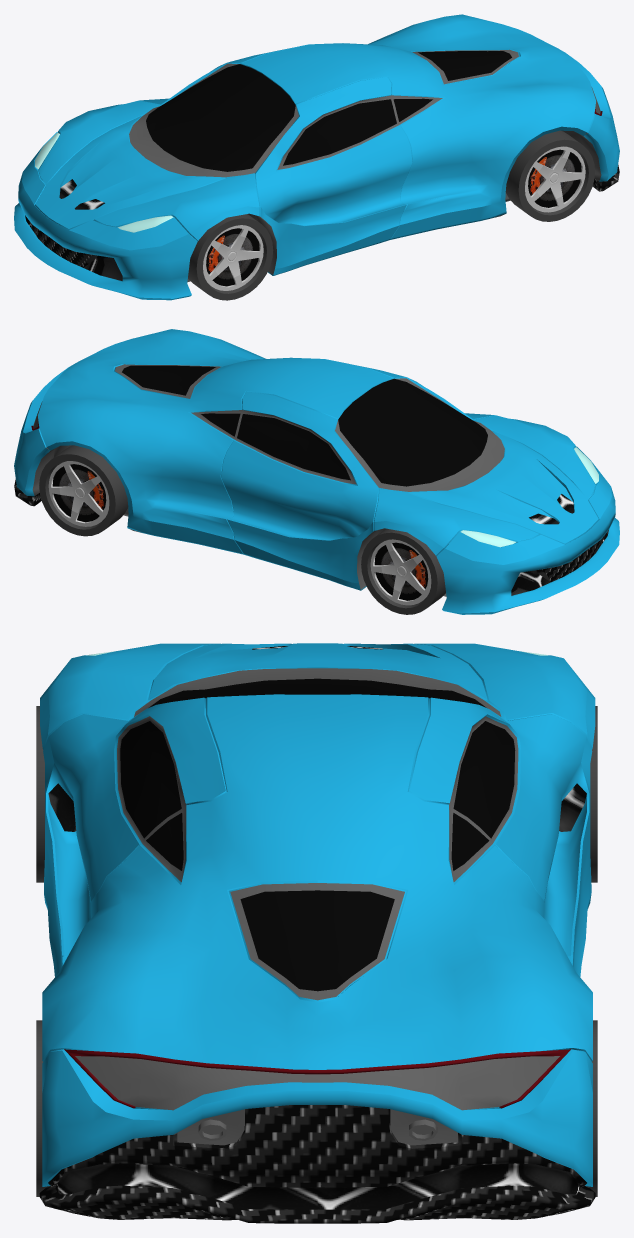
File: lorens.fbx
3 renders of one model, top to bottom at view 1: azimuth 30°, elevation 25°; view 2: azimuth 150°, elevation 25°; view 3: azimuth 270°, elevation 25°, orthographic. The views are drawn at different scales.
Visible parts, largest first — view 1: Chassi, wheel.003, wheel.001; view 2: Chassi, wheel.002, wheel; view 3: Chassi, wheel.001, wheel.003, wheel, wheel.002.
Part boxes in pixels (left/top/right/bottom): Chassi: left=14, top=14, right=619, bottom=300; wheel.003: left=505, top=130, right=594, bottom=221; wheel.001: left=188, top=214, right=273, bottom=300; Chassi: left=14, top=329, right=619, bottom=614; wheel.002: left=39, top=445, right=128, bottom=536; wheel: left=361, top=528, right=445, bottom=614; Chassi: left=39, top=643, right=595, bottom=1223; wheel.001: left=36, top=706, right=44, bottom=882; wheel.003: left=36, top=1020, right=47, bottom=1196; wheel: left=590, top=706, right=597, bottom=882; wheel.002: left=587, top=1020, right=597, bottom=1196.
Bounding box in the file's own units: 468 × 124 × 213.
